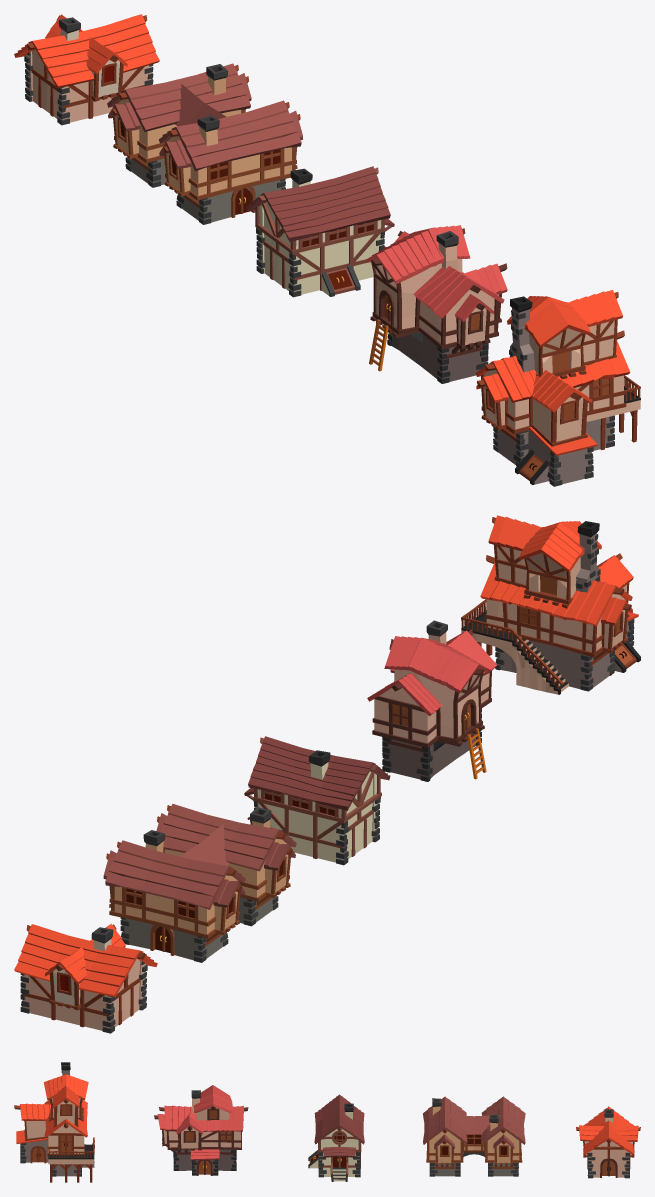
File: low_poly_medieval_houses_pack.glb
3 views of the same model, one above another, from view 1: azimuth 30°, elevation 25°; view 2: azimuth 150°, elevation 25°; view 3: azimuth 270°, elevation 25° (orthographic). The views are drawn at different scales.
Visible parts, largest first — view 1: Cube.048, Cube.044, Cube.013, Cube.010, Cube.029, Cube.050, Cube.049, Cube.046, Cube.030, Cube.001, Cube.051, Cube.043 (+9 smaller); view 2: Cube.048, Cube.010, Cube.013, Cube.044, Cube.029, Cube.050, Cube.049, Cube.046, Cube.001, Cube.030, Cube.033, Cube.051 (+10 smaller); view 3: Cube.048, Cube.010, Cube.029, Cube.044, Cube.049, Cube.013, Cube.050, Cube.046, Cube.001, Cube.051, Cube.047, Cube.033 (+11 smaller).
Part boxes in pixels (x1=…): Cube.048: x1=107, y1=63, x2=302, y2=171; Cube.044: x1=481, y1=296, x2=637, y2=484; Cube.013: x1=246, y1=166, x2=390, y2=294; Cube.010: x1=113, y1=64, x2=297, y2=222; Cube.029: x1=370, y1=231, x2=501, y2=381; Cube.050: x1=475, y1=290, x2=629, y2=455; Cube.049: x1=366, y1=225, x2=507, y2=321; Cube.046: x1=14, y1=14, x2=159, y2=88; Cube.030: x1=529, y1=320, x2=614, y2=379; Cube.001: x1=26, y1=49, x2=151, y2=122; Cube.051: x1=507, y1=296, x2=590, y2=347; Cube.043: x1=493, y1=310, x2=614, y2=486; Cube.048: x1=103, y1=803, x2=296, y2=909; Cube.010: x1=109, y1=807, x2=290, y2=960; Cube.013: x1=248, y1=736, x2=390, y2=862; Cube.044: x1=477, y1=521, x2=629, y2=689; Cube.029: x1=372, y1=620, x2=491, y2=779; Cube.050: x1=480, y1=515, x2=638, y2=626; Cube.049: x1=367, y1=630, x2=496, y2=716; Cube.046: x1=14, y1=924, x2=157, y2=996; Cube.001: x1=22, y1=959, x2=145, y2=1030; Cube.030: x1=495, y1=545, x2=580, y2=608; Cube.033: x1=461, y1=610, x2=568, y2=694; Cube.051: x1=519, y1=521, x2=601, y2=572; Cube.048: x1=423, y1=1097, x2=525, y2=1149; Cube.010: x1=426, y1=1098, x2=522, y2=1176; Cube.029: x1=162, y1=1090, x2=241, y2=1175; Cube.044: x1=21, y1=1062, x2=92, y2=1182; Cube.049: x1=157, y1=1085, x2=243, y2=1160; Cube.013: x1=314, y1=1094, x2=364, y2=1176; Cube.050: x1=16, y1=1084, x2=87, y2=1143; Cube.046: x1=583, y1=1107, x2=634, y2=1175; Cube.001: x1=588, y1=1141, x2=629, y2=1177; Cube.051: x1=43, y1=1074, x2=88, y2=1100; Cube.047: x1=579, y1=1125, x2=638, y2=1141; Cube.033: x1=48, y1=1143, x2=94, y2=1167.
Size of what is drawn, in the model's own units: 7.48 by 7.37 by 46.56.
Materials: 1 (1 with a texture image).
